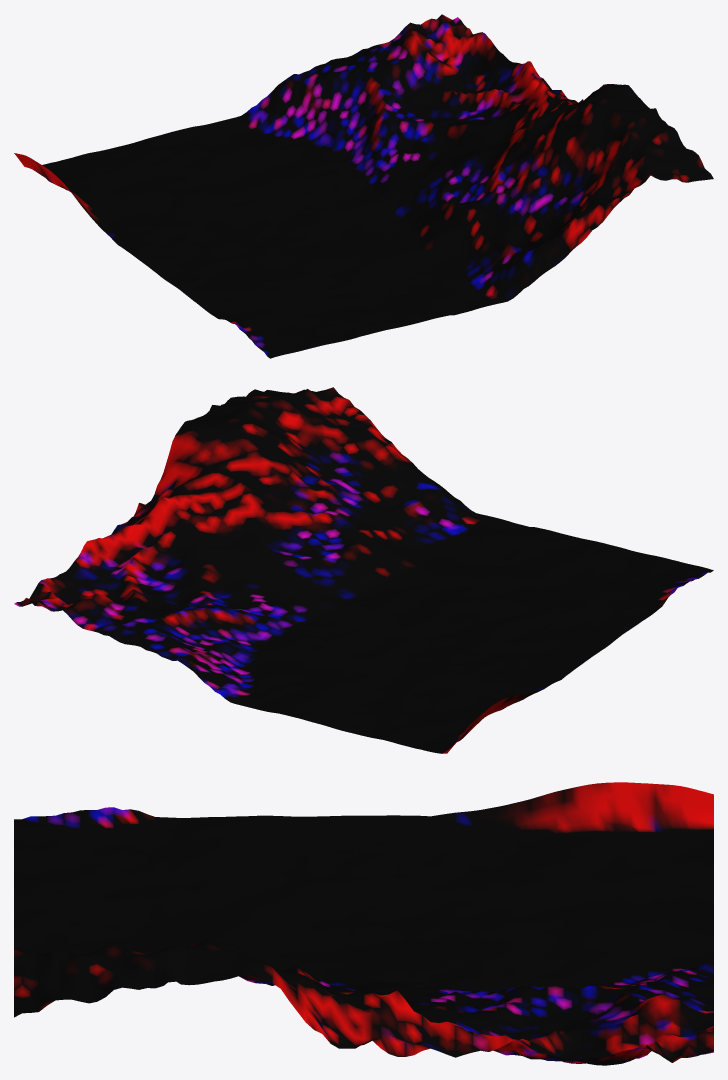
File: SM_AsirMountains_Terrain_2_3.fbx
The picture shows the model from 3 angles, top to bottom: view 1: azimuth 30°, elevation 25°; view 2: azimuth 150°, elevation 25°; view 3: azimuth 270°, elevation 25°; orthographic projection. The views are drawn at different scales.
Visible parts, largest first — view 1: SM_AsirMountains_Terrain_2_3; view 2: SM_AsirMountains_Terrain_2_3; view 3: SM_AsirMountains_Terrain_2_3.
Part boxes in pixels (x1,y1,x2,y2): SM_AsirMountains_Terrain_2_3: (14, 14, 713, 358); SM_AsirMountains_Terrain_2_3: (14, 387, 713, 753); SM_AsirMountains_Terrain_2_3: (14, 782, 713, 1065).
Size of the model in its own units: 50400 by 11705 by 50400.
